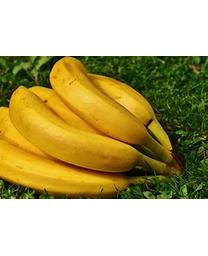banana: (1, 57, 183, 195)
